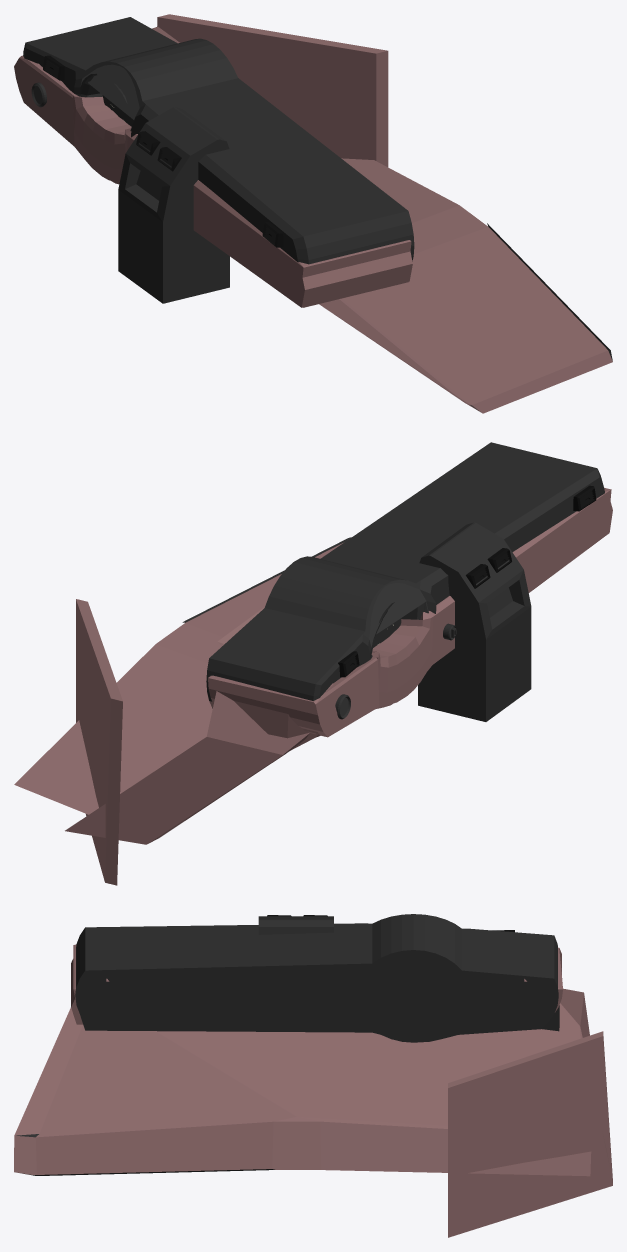
The model's file is BetterCar.fbx.
3 renders of one model, top to bottom at view 1: azimuth 30°, elevation 25°; view 2: azimuth 150°, elevation 25°; view 3: azimuth 270°, elevation 25°, orthographic. The views are drawn at different scales.
Visible parts, largest first — view 1: Text.009; view 2: Text.009; view 3: Text.009.
Boxes of the visible parts, x1=… form: Text.009: x1=14, y1=14, x2=612, y2=413; Text.009: x1=14, y1=442, x2=612, y2=885; Text.009: x1=14, y1=914, x2=612, y2=1237.
Bounding box in the file's own units: 86.39 × 60.32 × 158.
